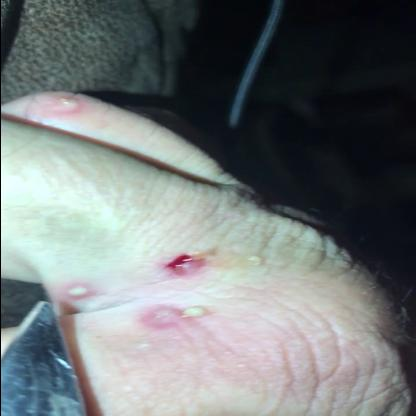Fire ant: (156, 246, 265, 286), (132, 300, 214, 332), (56, 273, 100, 309), (30, 95, 92, 119)
